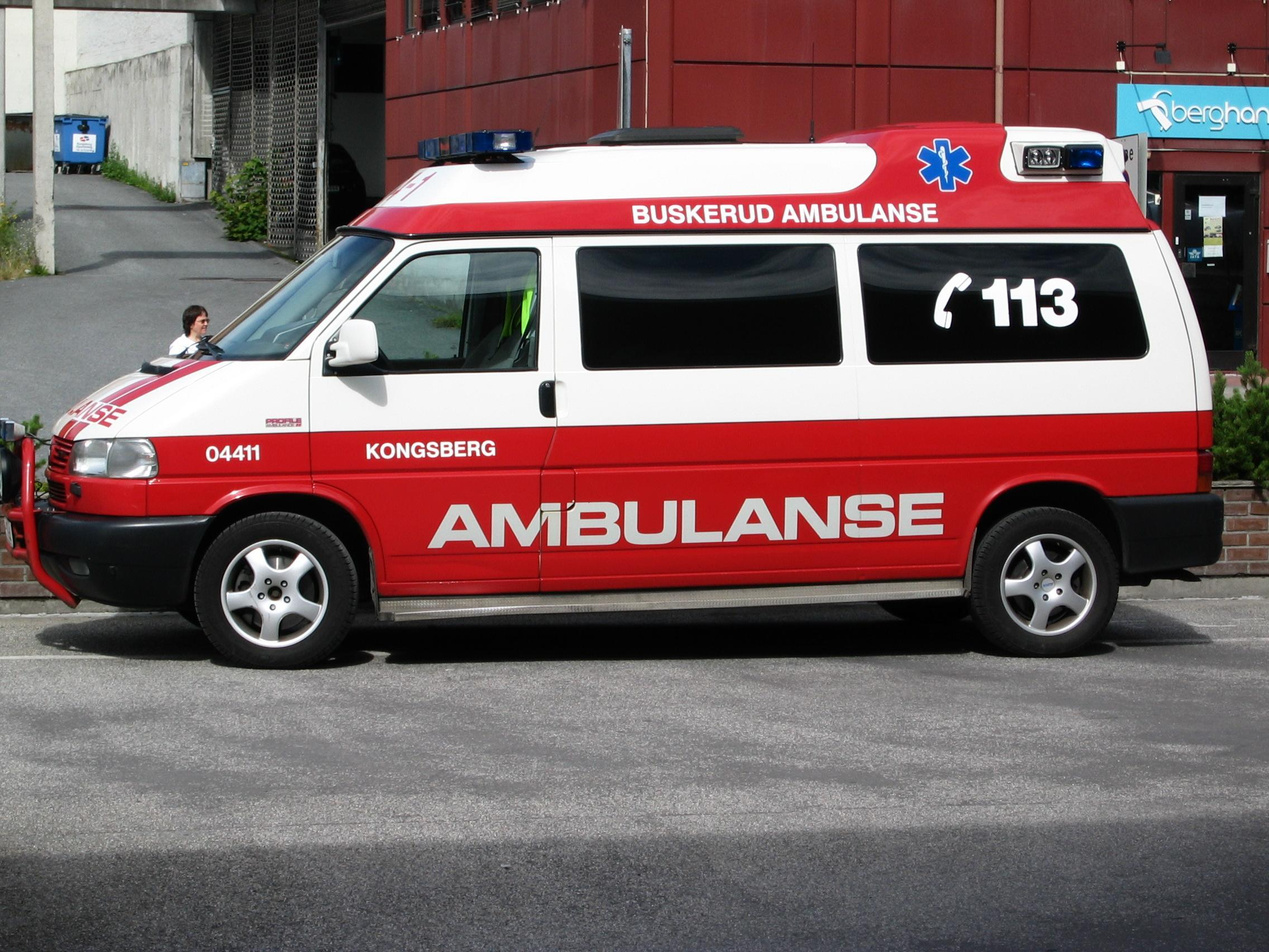Ambulance: (429, 483, 958, 550), (922, 125, 975, 201)
